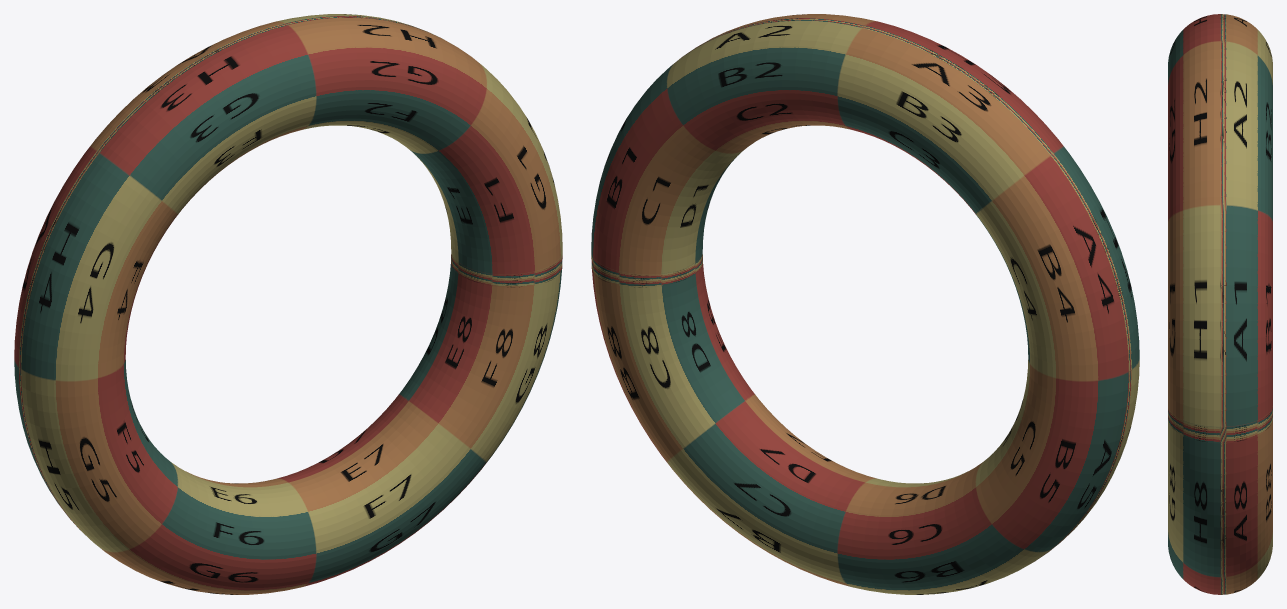
Rendered from texture_torus_R5_r3.glb.
The picture shows the model from 3 angles, left to right: view 1: azimuth 30°, elevation 25°; view 2: azimuth 150°, elevation 25°; view 3: azimuth 270°, elevation 25°; orthographic projection. The views are drawn at different scales.
Parts seen in each view (by area): view 1: world; view 2: world; view 3: world.
Boxes of the visible parts, box(x1,y1,x2,y2) form: world: box(14, 14, 562, 594); world: box(591, 14, 1139, 594); world: box(1168, 14, 1272, 594).
Bounding box in the file's own units: 25.78 × 25.78 × 4.66.
1 material, 1 textured.
